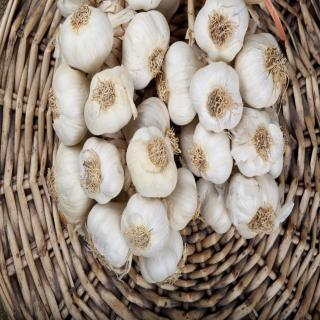Bawang Putih: (125, 122, 183, 203)
